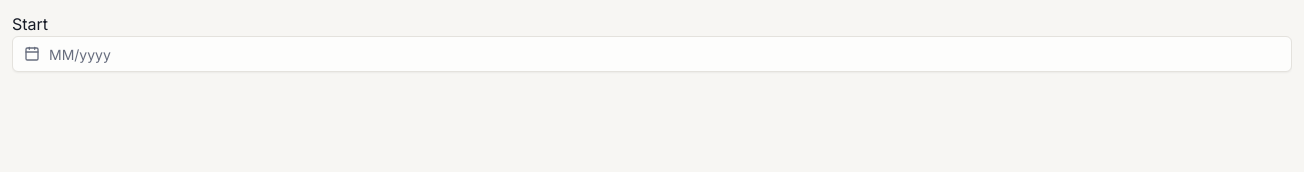
Test: MonthYearInput › takes a whole MM/yyyy in one go, the way fill() and paste deliver it
Click the field labelled "Start" at (652, 54), box [12,36,1292,72]
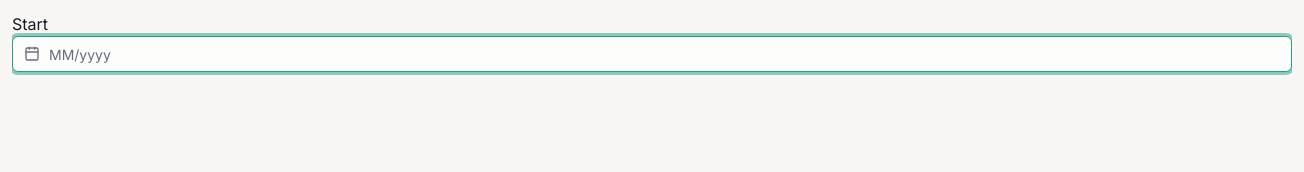
Type keys "02/2023"
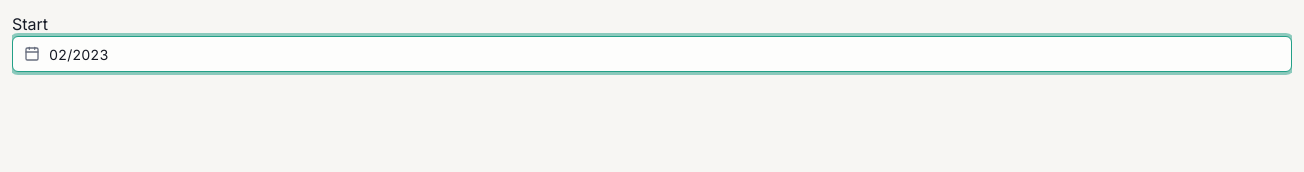
Check: the field labelled "Start" holds "02/2023", box [12,36,1292,72]
